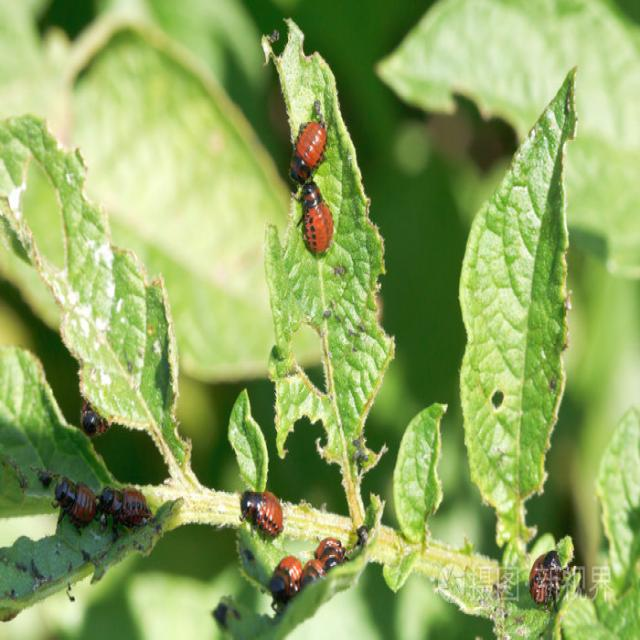ShuCaiHuaBanChong-Larva-: (44, 463, 107, 529), (96, 478, 165, 536), (298, 186, 340, 259), (230, 486, 287, 535), (261, 546, 304, 604), (285, 125, 323, 177)
